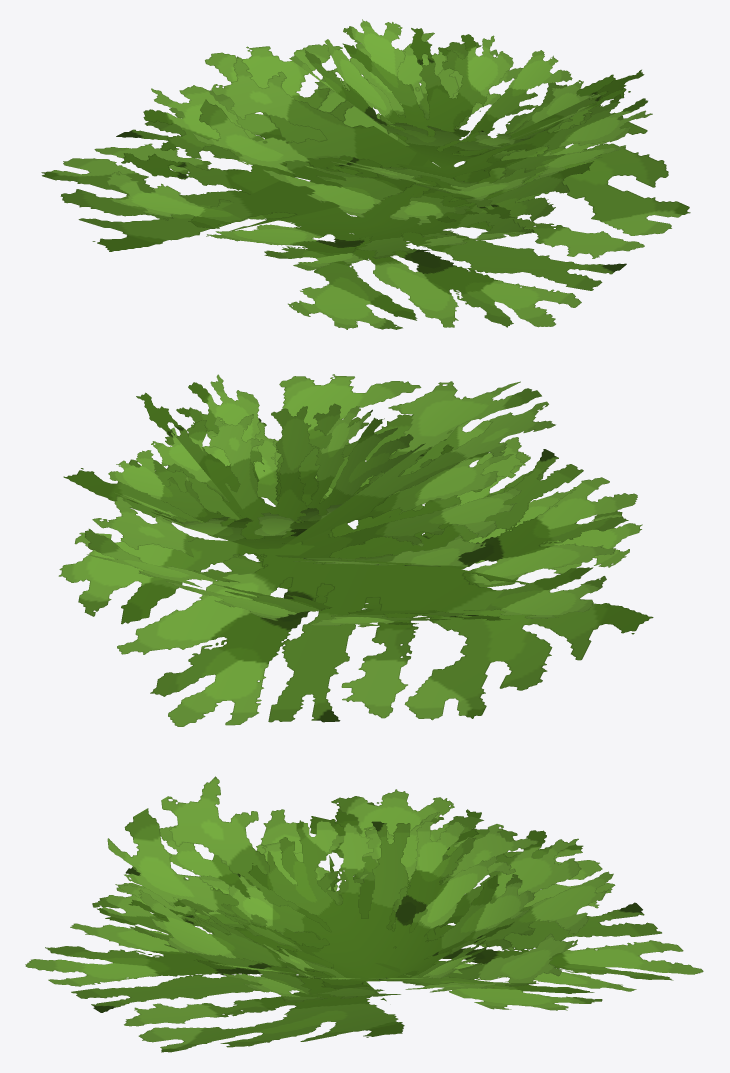
The model's file is Elkhorn Cora_preview_3DS_simplified.glb.
3 views of the same model, one above another, from view 1: azimuth 30°, elevation 25°; view 2: azimuth 150°, elevation 25°; view 3: azimuth 270°, elevation 25° (orthographic). The views are drawn at different scales.
Parts seen in each view (by area): view 1: Marine Park Empire model; view 2: Marine Park Empire model; view 3: Marine Park Empire model.
Part boxes in pixels (box(x1,y1,x2,y2)): Marine Park Empire model: box(41, 19, 690, 329); Marine Park Empire model: box(58, 374, 653, 726); Marine Park Empire model: box(25, 776, 703, 1052).
Bounding box in the file's own units: 83.17 × 21.49 × 91.51.
1 material, 1 textured.
